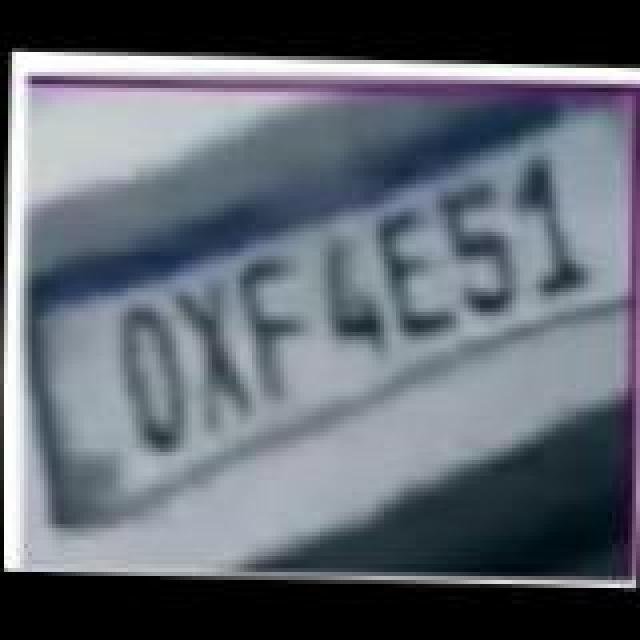1: (512, 156, 596, 300)
4: (316, 234, 392, 358)
5: (436, 186, 516, 318)
E: (372, 210, 460, 346)
F: (232, 254, 316, 402)
O: (112, 304, 192, 460)
X: (166, 282, 258, 434)
